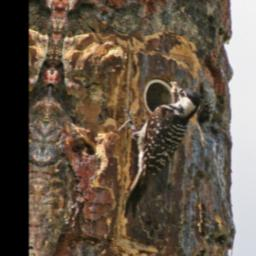Woodpecker: (108, 78, 203, 223)
